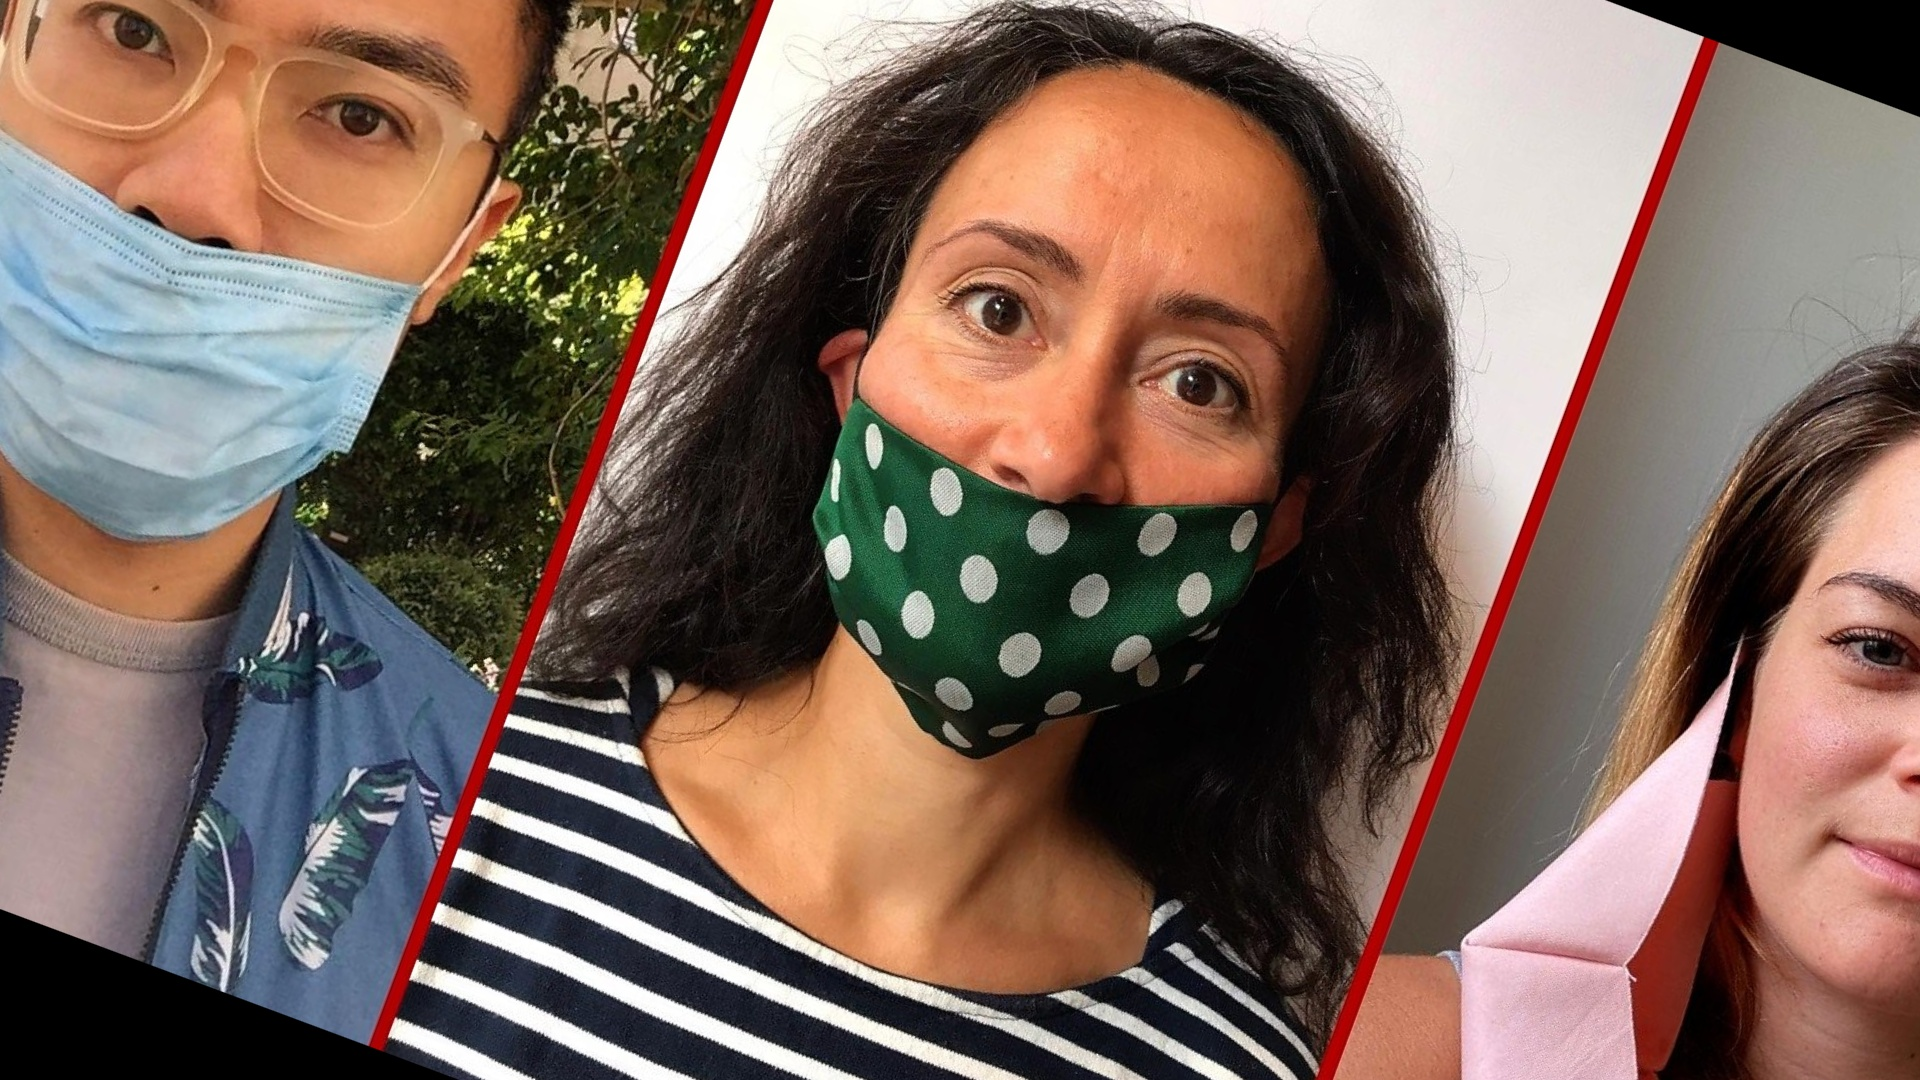mask_weared_incorrect: (837, 44, 1326, 756), (1, 1, 516, 558)
